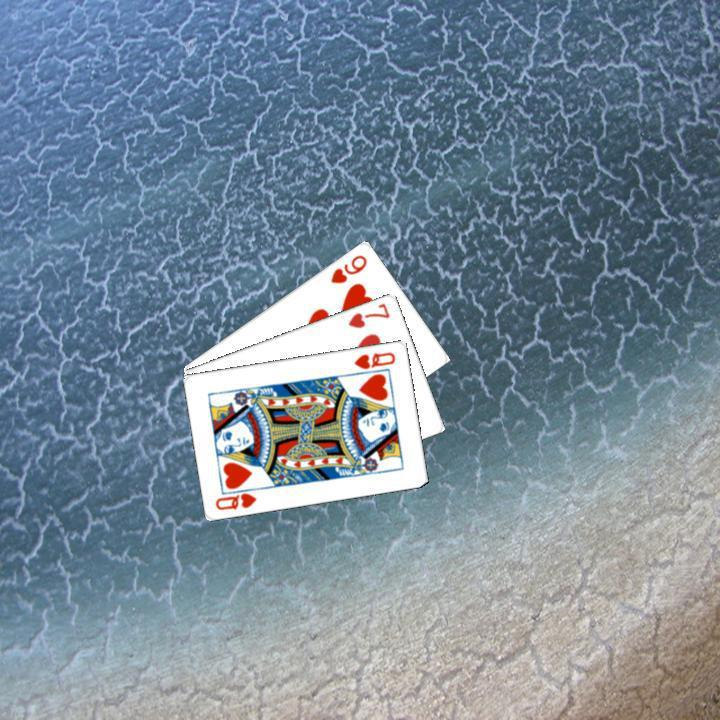7: (344, 298, 392, 330)
9: (326, 250, 369, 285)
Q: (211, 482, 263, 512), (350, 347, 398, 371)
